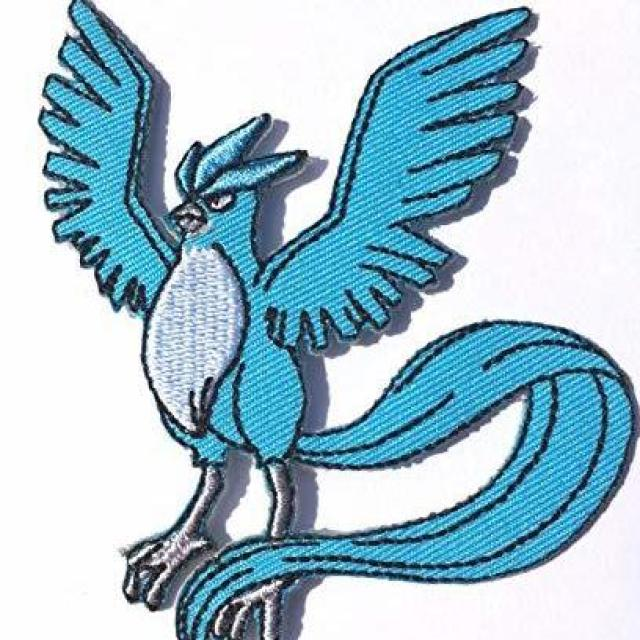Articuno: (57, 93, 454, 566)
